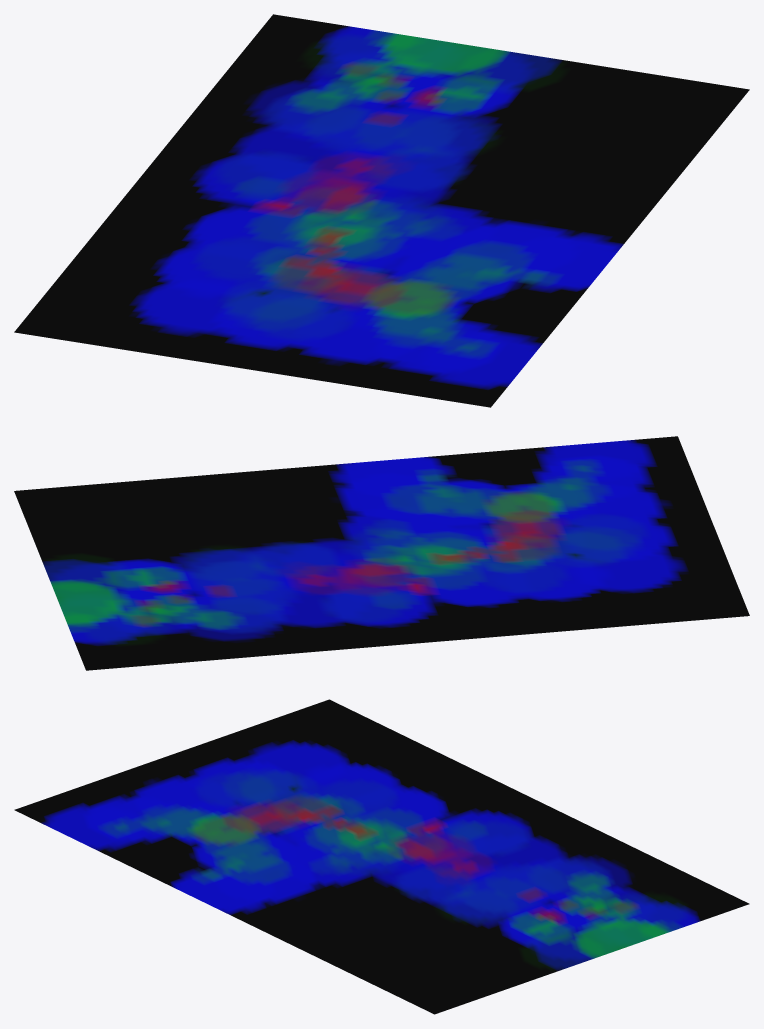
3 renders of one model, top to bottom at view 1: azimuth 30°, elevation 25°; view 2: azimuth 150°, elevation 25°; view 3: azimuth 270°, elevation 25°, orthographic. The views are drawn at different scales.
Visible parts, largest first — view 1: Sprite__1_; view 2: Sprite__1_; view 3: Sprite__1_.
Part boxes in pixels (box(x1,y1,x2,y2)): Sprite__1_: box(14, 14, 749, 407); Sprite__1_: box(14, 436, 749, 670); Sprite__1_: box(14, 699, 749, 1014).
Size of the model in its own units: 4816 by 2.72 by 4760.
